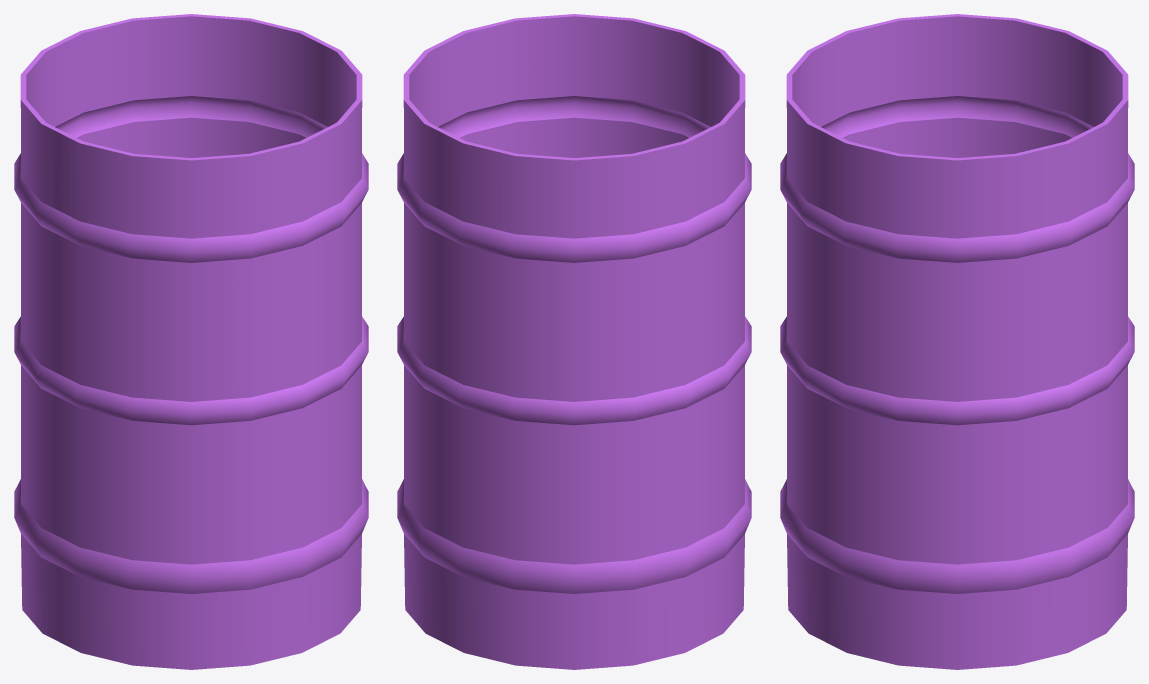
File: Prop_OilBarrelOpen.FBX
3 renders of one model, left to right at view 1: azimuth 30°, elevation 25°; view 2: azimuth 150°, elevation 25°; view 3: azimuth 270°, elevation 25°, orthographic.
Parts seen in each view (by area): view 1: OilBarrel; view 2: OilBarrel; view 3: OilBarrel.
Boxes of the visible parts, x1,y1,x2,y2 form: OilBarrel: (14,14,368,669); OilBarrel: (397,14,751,669); OilBarrel: (780,14,1134,669).
Bounding box in the file's own units: 64.32 × 101 × 63.34.
